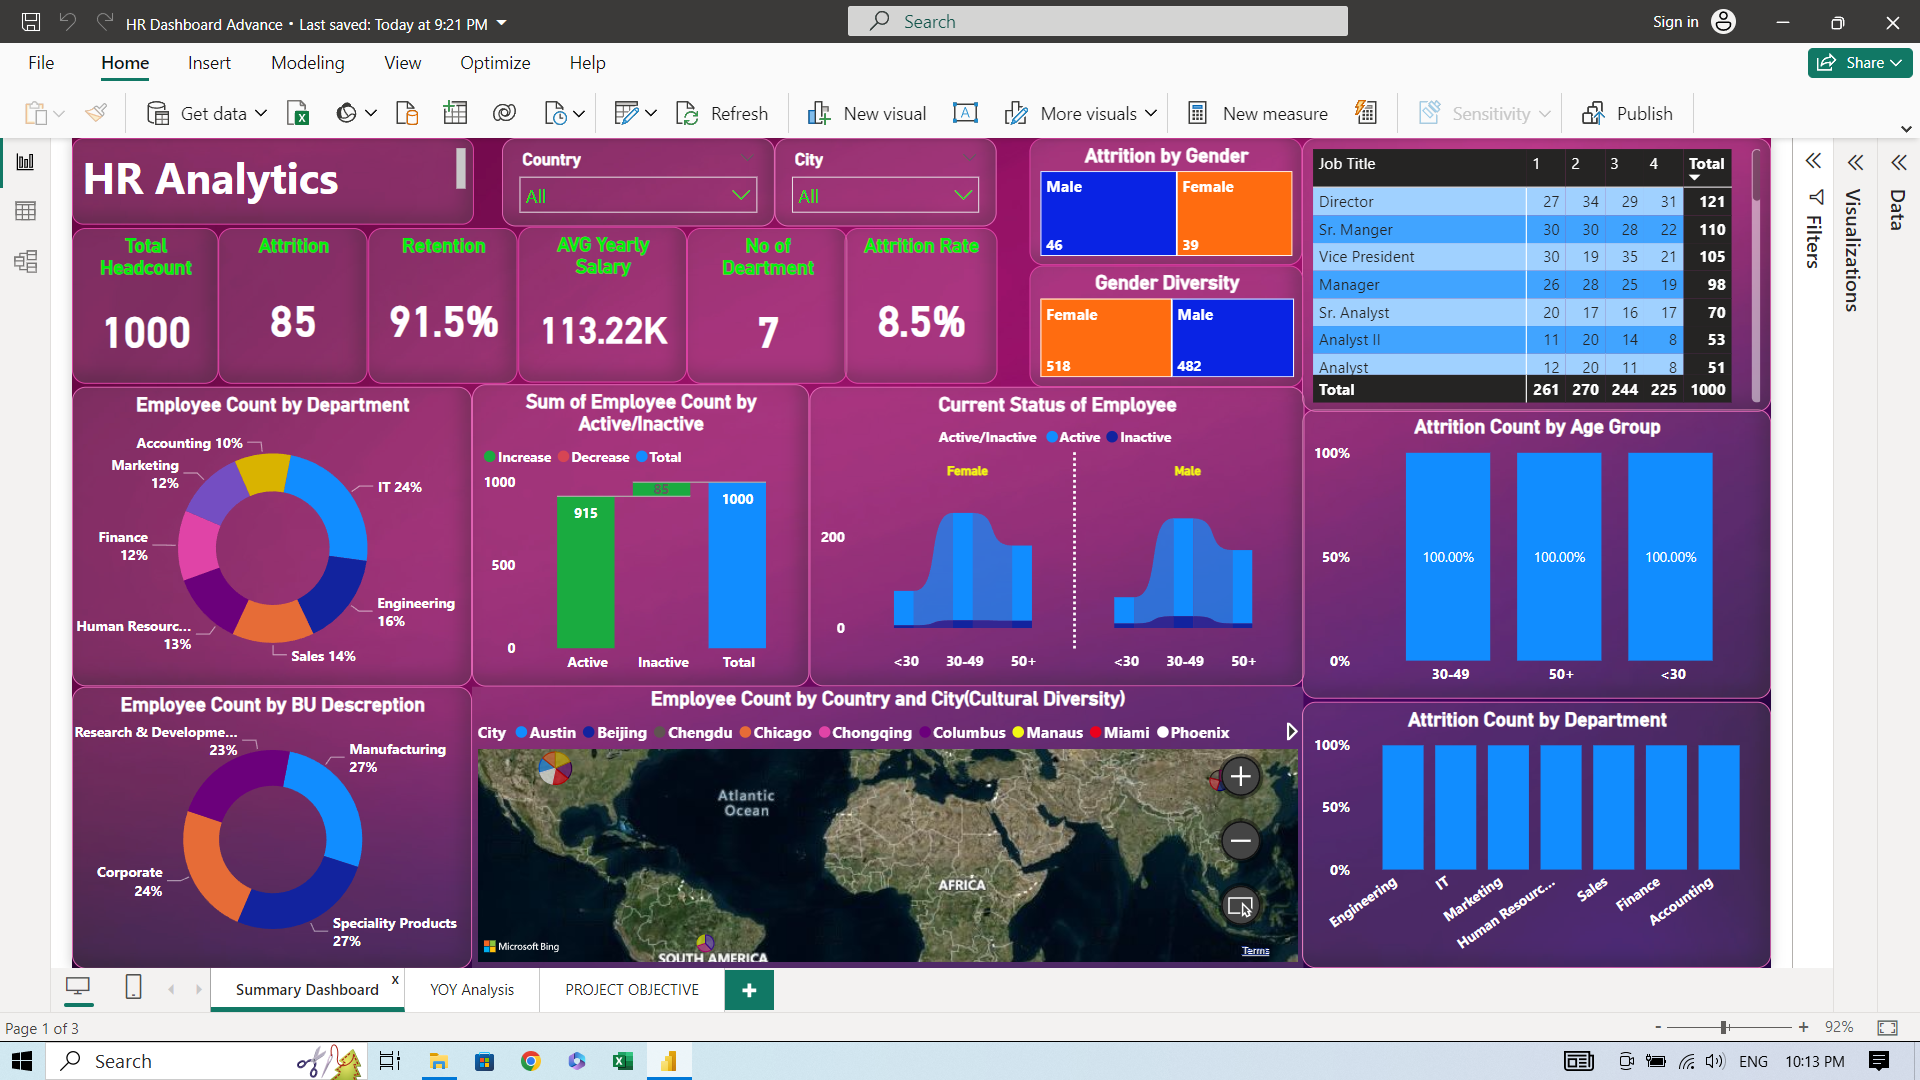

Layout of this report page (visuals, bound fields, positions):
{"tool":"powerbi","page":{"name":"Summary Dashboard","canvas":[1475,721],"ordinal":0},"visuals":[{"type":"textbox","box":[0,0,349.1,75],"z":0},{"type":"donutChart","title":"Employee Count by BU Descreption","fields":{"Y":["Sum(EMP DATA.Employee Count)"],"Category":["EMP DATA.BU Descreption"]},"box":[0,475.8,347.3,244.7],"z":1000},{"type":"donutChart","title":"Employee Count by Department","fields":{"Y":["Sum(EMP DATA.Employee Count)"],"Category":["EMP DATA.Department"]},"box":[0,216,347.3,259.8],"z":2000},{"type":"hundredPercentStackedColumnChart","title":"Attrition Count by Age Group","fields":{"Y":["Sum(EMP DATA.Attrition Count)"],"Category":["EMP DATA.Age Group"]},"box":[1067.8,235.2,407.4,251.6],"z":3000},{"type":"hundredPercentStackedColumnChart","title":"Attrition Count by Department","fields":{"Y":["Sum(EMP DATA.Attrition Count)"],"Category":["EMP DATA.Department"]},"box":[1067.8,489.5,407.4,231.1],"z":4000},{"type":"waterfallChart","fields":{"Category":["EMP DATA.Active/Inactive"],"Y":["Sum(EMP DATA.Employee Count)"]},"box":[347.3,213.3,292.6,262.5],"z":5000},{"type":"map","title":"Employee Count by Country and City(Cultural Diversity)","fields":{"Size":["Sum(EMP DATA.Employee Count)"],"Category":["EMP DATA.Country"],"Series":["EMP DATA.City"]},"box":[347.3,475.8,721.9,244.7],"z":6000},{"type":"ribbonChart","title":"Current Status of Employee","fields":{"Category":["EMP DATA.Age Group"],"Y":["Sum(EMP DATA.Employee Count)"],"Rows":["EMP DATA.Gender"],"Series":["EMP DATA.Active/Inactive"]},"box":[639.9,216,429.3,259.8],"z":7000},{"type":"pivotTable","fields":{"Rows":["EMP DATA.Job Title"],"Columns":["EMP DATA.Quarter"],"Values":["Sum(EMP DATA.Employee Count)"]},"box":[1067.8,0,407.4,237.9],"z":8000},{"type":"treemap","title":"Gender Diversity","fields":{"Values":["Sum(EMP DATA.Employee Count)"],"Group":["EMP DATA.Gender"]},"box":[831.3,110.7,237.9,105.3],"z":9000},{"type":"treemap","title":"Attrition by Gender","fields":{"Values":["Sum(EMP DATA.Attrition Count)"],"Group":["EMP DATA.Gender"]},"box":[831.3,0,236.5,110.7],"z":10000},{"type":"slicer","fields":{"Values":["EMP DATA.Country"]},"box":[373.3,0,236.5,76.6],"z":11000},{"type":"slicer","fields":{"Values":["EMP DATA.City"]},"box":[609.8,0,192.8,76.6],"z":12000},{"type":"card","title":"Total Headcount","fields":{"Values":["Sum(EMP DATA.Employee Count)"]},"box":[0,77.9,127.2,135.4],"z":13000},{"type":"card","title":"Attrition","fields":{"Values":["Sum(EMP DATA.Attrition Count)"]},"box":[127.2,77.9,129.9,135.4],"z":14000},{"type":"card","title":"Retention","fields":{"Values":["EMP DATA.Retintion Rate"]},"box":[257,77.9,129.9,135.4],"z":15000},{"type":"card","title":"AVG Yearly Salary","fields":{"Values":["Avg(EMP DATA.Annual Salary)"]},"box":[386.9,76.6,146.3,135.4],"z":16000},{"type":"card","title":"No of Deartment","fields":{"Values":["Count(EMP DATA.Department)"]},"box":[533.2,77.9,139.5,135.4],"z":17000},{"type":"card","title":"Attrition Rate","fields":{"Values":["EMP DATA.Attrition Rate"]},"box":[670,77.9,132.6,135.4],"z":18000}]}

Visuals, with their boxes on the page's 1475x721 design canvas (x1, y1, x2, y2). These are canvas units, not pixel positions in the 1920x1080 screenshot, which may show the page scaled, cropped or inside an application window:
textbox: bbox=(0, 0, 349, 75)
"Employee Count by BU Descreption" donutChart: bbox=(0, 476, 347, 720)
"Employee Count by Department" donutChart: bbox=(0, 216, 347, 476)
"Attrition Count by Age Group" hundredPercentStackedColumnChart: bbox=(1068, 235, 1475, 487)
"Attrition Count by Department" hundredPercentStackedColumnChart: bbox=(1068, 490, 1475, 721)
waterfallChart - EMP DATA.Active/Inactive x Sum(EMP DATA.Employee Count): bbox=(347, 213, 640, 476)
"Employee Count by Country and City(Cultural Diversity)" map: bbox=(347, 476, 1069, 720)
"Current Status of Employee" ribbonChart: bbox=(640, 216, 1069, 476)
pivotTable - EMP DATA.Job Title x EMP DATA.Quarter: bbox=(1068, 0, 1475, 238)
"Gender Diversity" treemap: bbox=(831, 111, 1069, 216)
"Attrition by Gender" treemap: bbox=(831, 0, 1068, 111)
slicer - EMP DATA.Country: bbox=(373, 0, 610, 77)
slicer - EMP DATA.City: bbox=(610, 0, 803, 77)
"Total Headcount" card: bbox=(0, 78, 127, 213)
"Attrition" card: bbox=(127, 78, 257, 213)
"Retention" card: bbox=(257, 78, 387, 213)
"AVG Yearly Salary" card: bbox=(387, 77, 533, 212)
"No of Deartment" card: bbox=(533, 78, 673, 213)
"Attrition Rate" card: bbox=(670, 78, 803, 213)
